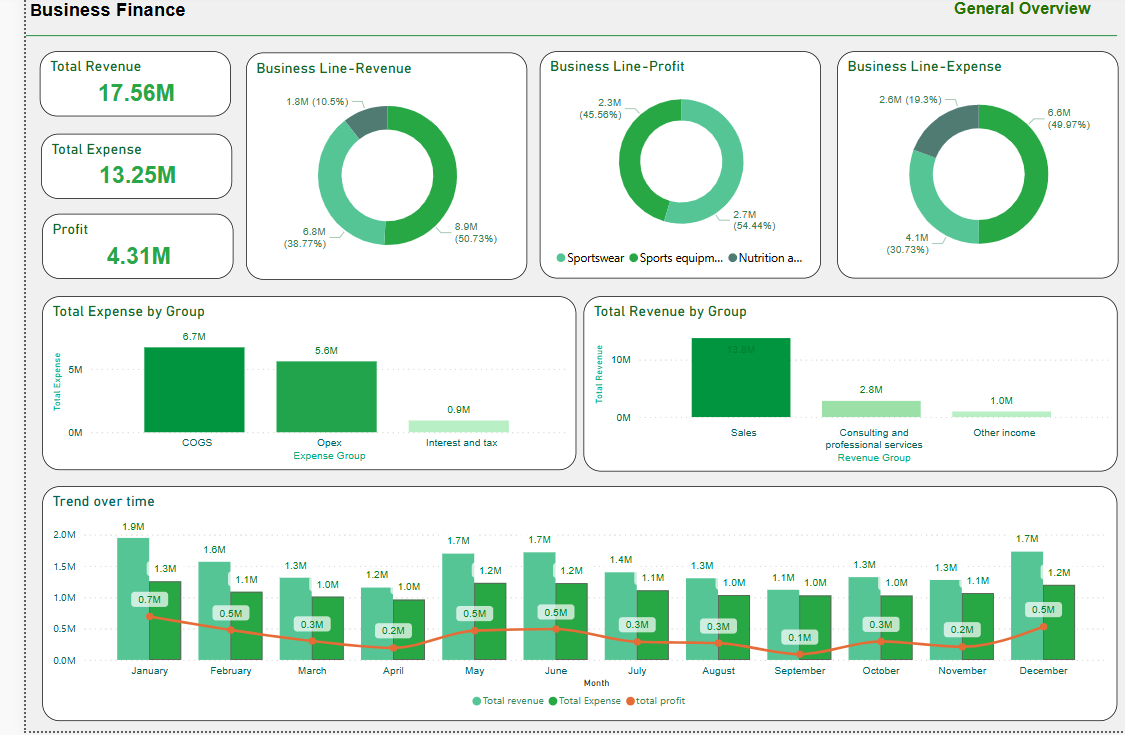

The page's visual inventory and layout, read from the dashboard file:
{"tool":"powerbi","page":{"name":"Business finance viz","canvas":[1269,850],"ordinal":0},"visuals":[{"type":"textbox","box":[0,0,290.1,35.6],"z":0},{"type":"textbox","box":[1066.7,0,213.3,35.6],"z":1000},{"type":"card","title":"Total Revenue","fields":{"Values":["business finanace.Total revenue"]},"box":[15.9,65,220.9,75],"z":2000},{"type":"card","title":"Total Expense","fields":{"Values":["business finanace.Total Expense"]},"box":[17.3,160,220.9,75],"z":3000},{"type":"card","title":"Profit","fields":{"Values":["business finanace.total profit"]},"box":[18.8,252.6,220.9,75.1],"z":4000},{"type":"donutChart","title":" Business Line-Revenue","fields":{"Category":["business finanace.Business Line"],"Y":["business finanace.Total revenue"]},"box":[254.1,66.4,324.8,262.7],"z":5000},{"type":"donutChart","title":"Business Line-Expense","fields":{"Category":["business finanace.Business Line","business finanace.Revenue / Expense Group"],"Y":["business finanace.Total Expense"]},"box":[936.9,65,324.8,262.7],"z":6000},{"type":"donutChart","title":"Business Line-Profit","fields":{"Category":["business finanace.Business Line"],"Y":["business finanace.total profit"]},"box":[593.3,65,324.8,262.7],"z":7000},{"type":"lineClusteredColumnComboChart","title":"Trend over time","fields":{"Category":["business finanace.Date.Variation.Date Hierarchy.Year","business finanace.Date.Variation.Date Hierarchy.Month","business finanace.Date.Variation.Date Hierarchy.Day"],"Y":["business finanace.Total revenue","business finanace.Total Expense"],"Y2":["business finanace.total profit"]},"box":[18.8,567.3,1241.5,271.4],"z":8000},{"type":"columnChart","title":"Total Expense by Group","fields":{"Category":["business finanace.Revenue / Expense Group"],"Y":["business finanace.Total Expense"]},"box":[18.8,347.9,616.4,200.7],"z":10000},{"type":"columnChart","title":"Total Revenue by Group","fields":{"Category":["business finanace.Revenue / Expense Group"],"Y":["business finanace.Total revenue"]},"box":[643.9,347.9,616.4,202.1],"z":11000},{"type":"shape","box":[0,28.9,1260.3,36.1],"z":11001}]}

Visuals, with their boxes in screenshot pixels (x1, y1, x2, y2), scaled from the page's 1269x850 canvas onto the 1125x735 screenshot:
textbox: 0, 0, 257, 31
textbox: 946, 0, 1124, 31
"Total Revenue" card: 14, 56, 210, 121
"Total Expense" card: 15, 138, 211, 203
"Profit" card: 17, 218, 212, 283
" Business Line-Revenue" donutChart: 225, 57, 513, 285
"Business Line-Expense" donutChart: 831, 56, 1119, 283
"Business Line-Profit" donutChart: 526, 56, 814, 283
"Trend over time" lineClusteredColumnComboChart: 17, 491, 1117, 725
"Total Expense by Group" columnChart: 17, 301, 563, 474
"Total Revenue by Group" columnChart: 571, 301, 1117, 476
shape: 0, 25, 1117, 56
